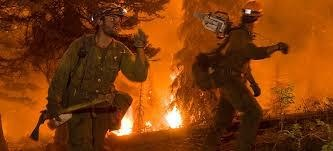fire: (110, 110, 134, 137), (162, 102, 183, 129)
